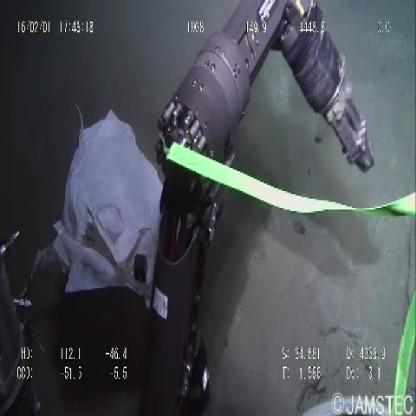Rov: (133, 1, 376, 416)
Rác: (46, 104, 172, 314)
